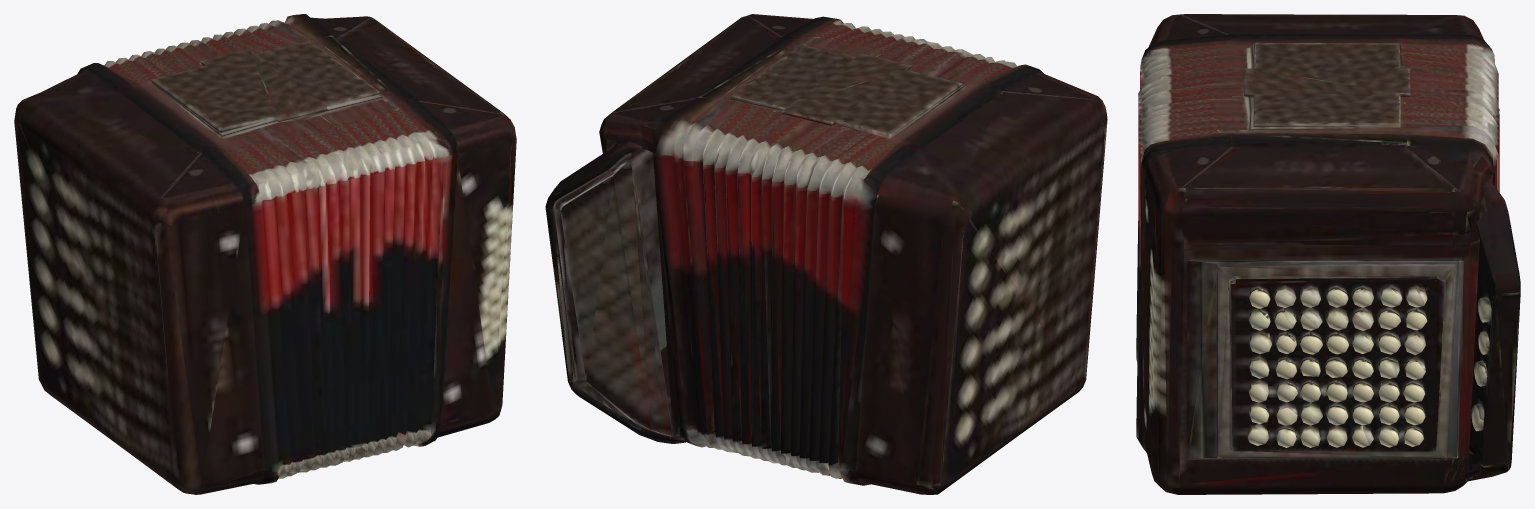
Rendered from concertina.glb.
The picture shows the model from 3 angles, left to right: view 1: azimuth 30°, elevation 25°; view 2: azimuth 150°, elevation 25°; view 3: azimuth 270°, elevation 25°; orthographic projection. The views are drawn at different scales.
Bounding box in the file's own units: 0.36 × 0.2871 × 0.2903.
1 material, 1 textured.
